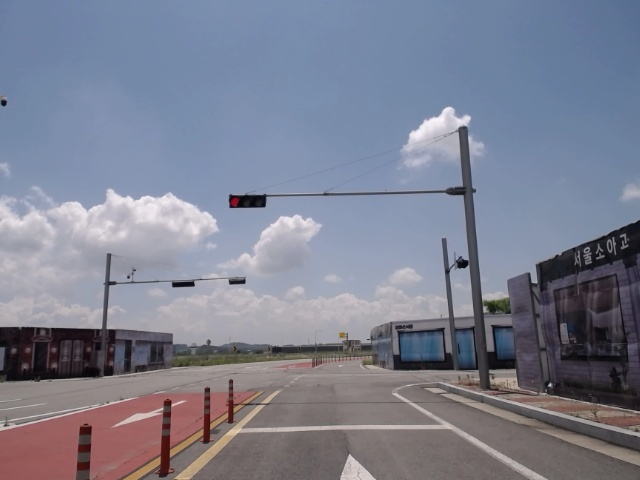red_3: (227, 194, 268, 210)
